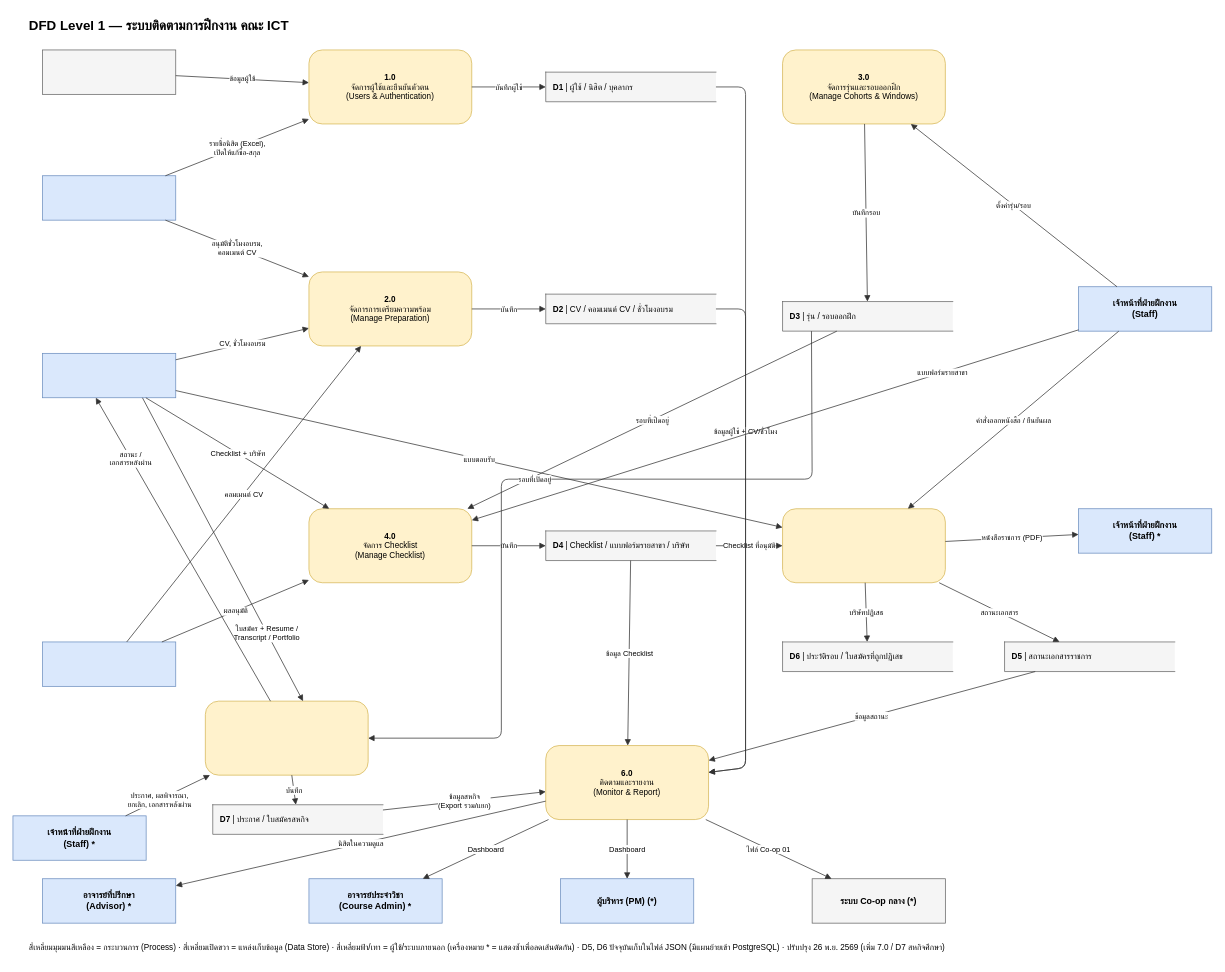
This 1225x972 diagram has some shape labels left out. Each missing label, with the centre of its shape:
"5.0 จัดการเอกสารราชการ (Manage Official Documents)" goes at pixel 863 545.
"7.0 จัดการสหกิจศึกษา (Manage Co-op Education)" goes at pixel 286 737.
"Microsoft Entra ID" goes at pixel 109 71.
"นิสิต (Student)" goes at pixel 109 375.
"อาจารย์ที่ปรึกษา (Advisor)" goes at pixel 109 663.
"อาจารย์ประจำวิชา (Course Admin)" goes at pixel 109 197.
